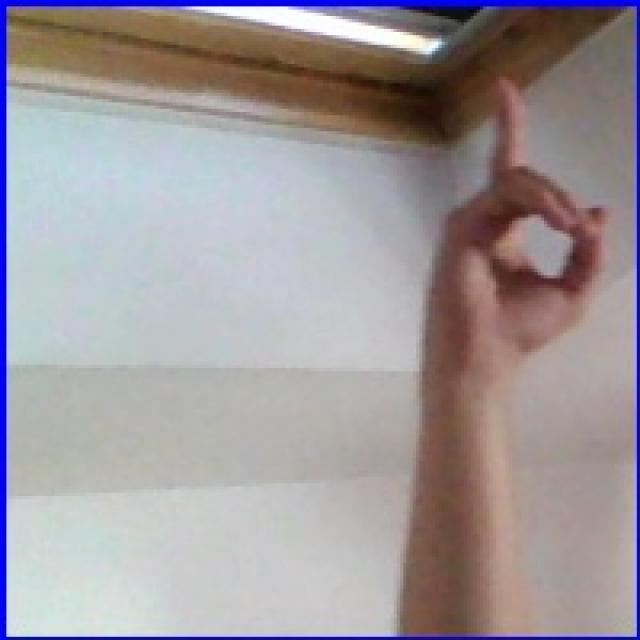Letra D: (387, 54, 622, 424)
